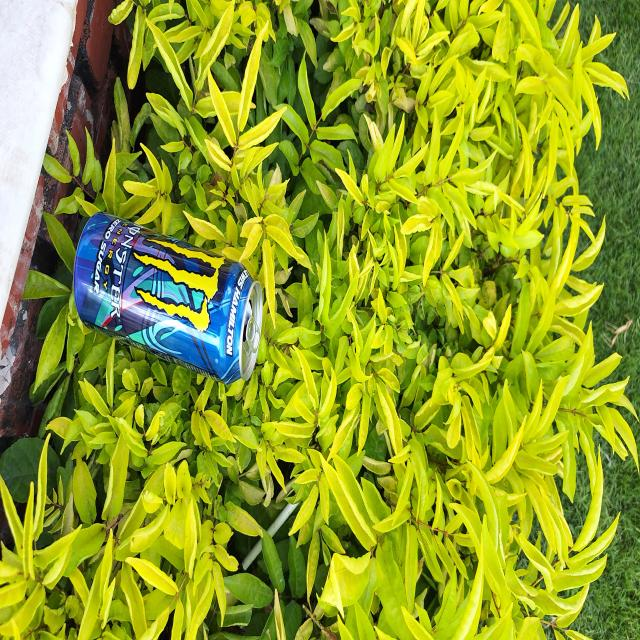Monster LH44: (74, 204, 263, 382)
